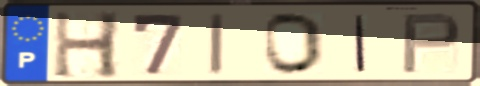7: (129, 12, 186, 77)
H: (51, 9, 123, 81)
I: (207, 11, 227, 77), (353, 13, 369, 74)
O: (262, 10, 326, 77)
P: (399, 11, 464, 75)
